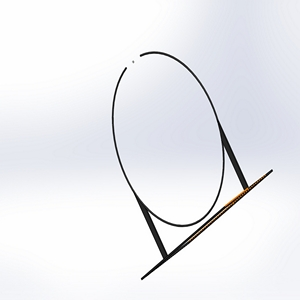circle: (109, 48, 274, 281)
